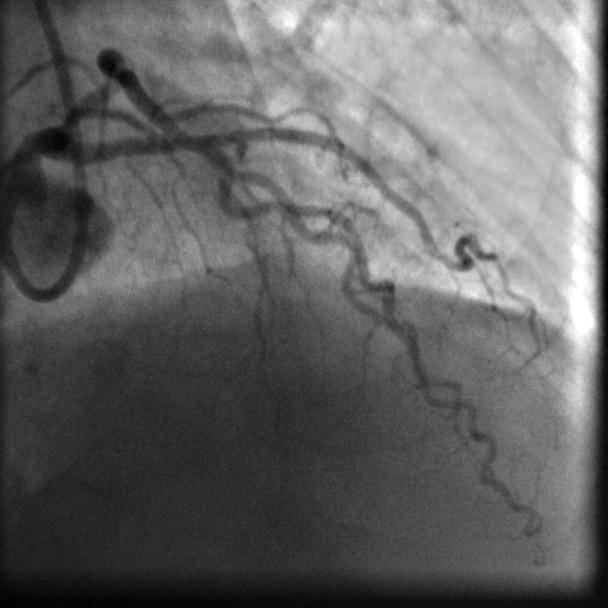Stenosis: (101, 50, 136, 94)
